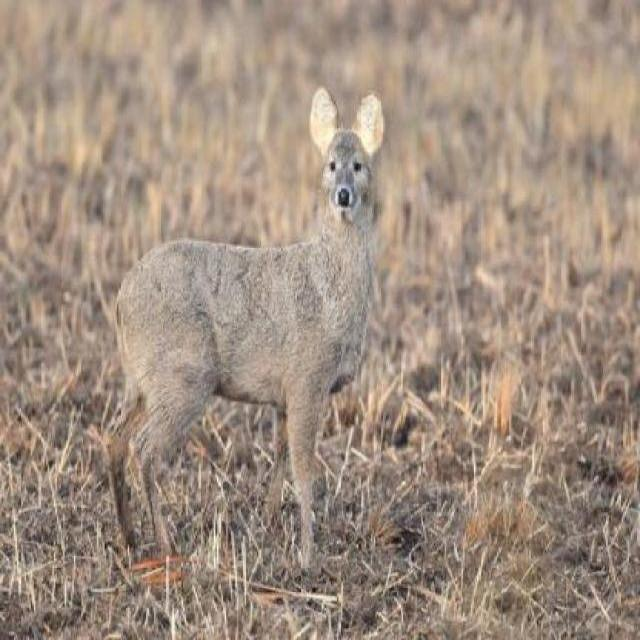deer: (93, 85, 399, 567)
